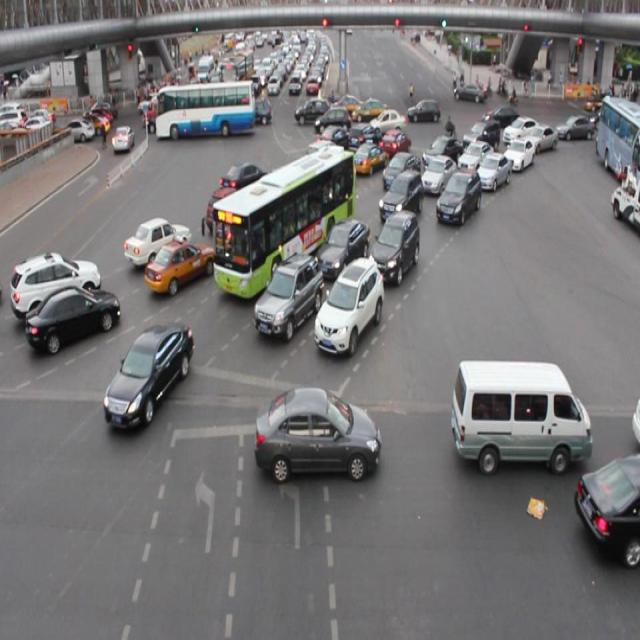car: (255, 386, 381, 480), (104, 320, 192, 430), (574, 452, 640, 564), (313, 256, 382, 352), (27, 284, 118, 351), (10, 252, 100, 316), (253, 252, 321, 336), (145, 238, 214, 293), (368, 210, 420, 279), (124, 218, 191, 268), (316, 218, 369, 280), (213, 212, 276, 256), (260, 166, 314, 214), (436, 169, 480, 226), (206, 189, 264, 231), (268, 190, 322, 232), (378, 169, 422, 220), (220, 162, 272, 199), (314, 166, 358, 204), (421, 154, 456, 198), (382, 152, 419, 192), (422, 135, 462, 170), (352, 140, 388, 178), (476, 153, 508, 192), (462, 121, 499, 152), (457, 142, 492, 174), (502, 115, 545, 141), (517, 125, 555, 152), (379, 128, 410, 159), (502, 138, 532, 170), (347, 122, 376, 154), (316, 124, 348, 151)
truck: (452, 359, 591, 469), (306, 140, 344, 180)
van: (212, 150, 353, 299)
